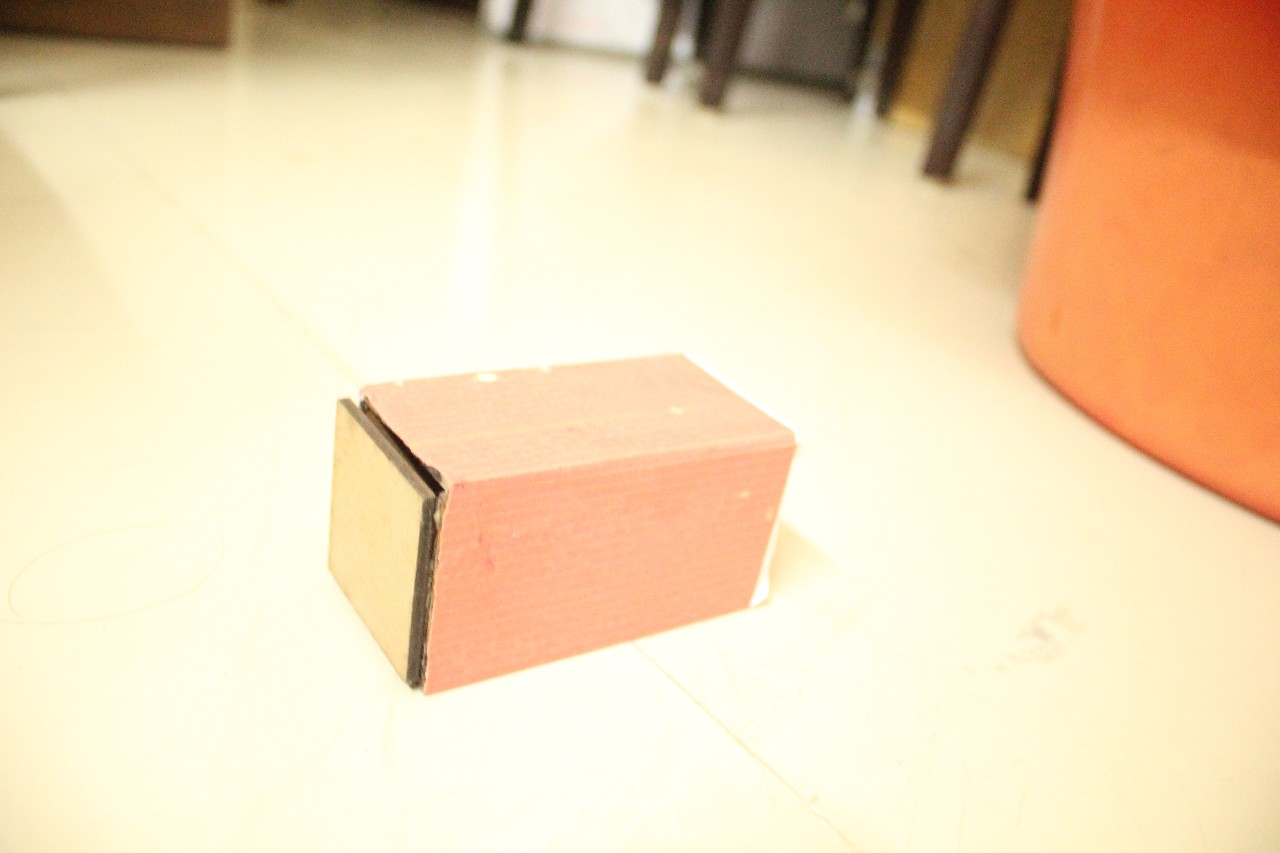red: (863, 0, 1280, 579)
